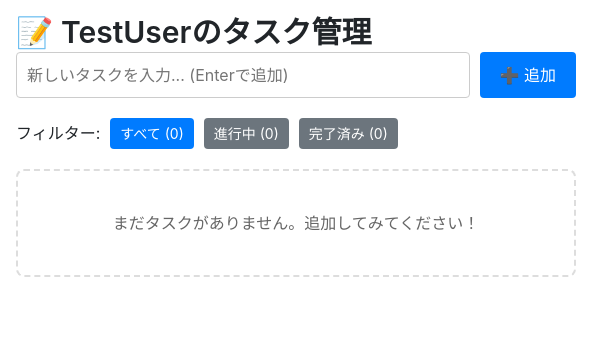
it: Task Deletion Integration Tests (US1) › 個別削除の受入シナリオ › AS-004: 削除ボタンでタスクが削除される
The width and height of the screenshot is (593, 353).
# 2つのタスクを追加
Step 1. Type "削除対象タスク" into the field with placeholder "新しいタスクを入力... (Enterで追加)" → [243, 74], box [16, 52, 470, 98]
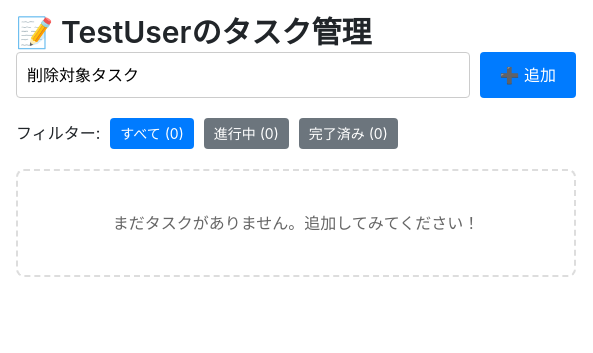
Step 2. Click the button "➕ 追加" → [528, 74], box [480, 52, 576, 98]
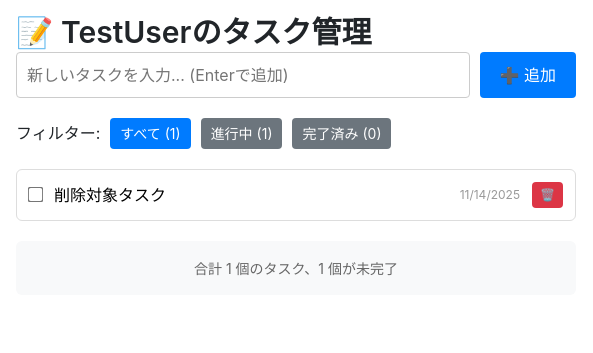
Step 3. Type "残すタスク" into the field with placeholder "新しいタスクを入力... (Enterで追加)" → [243, 74], box [16, 52, 470, 98]
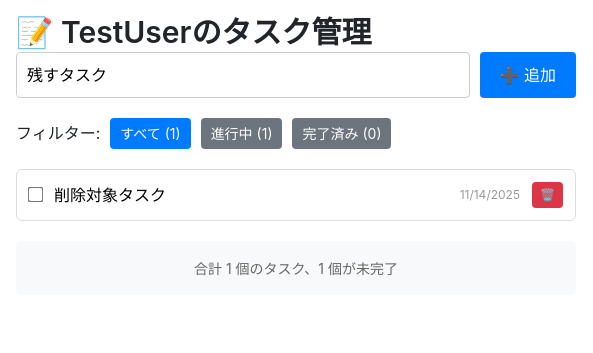
Step 4. Click the button "➕ 追加" → [528, 74], box [480, 52, 576, 98]
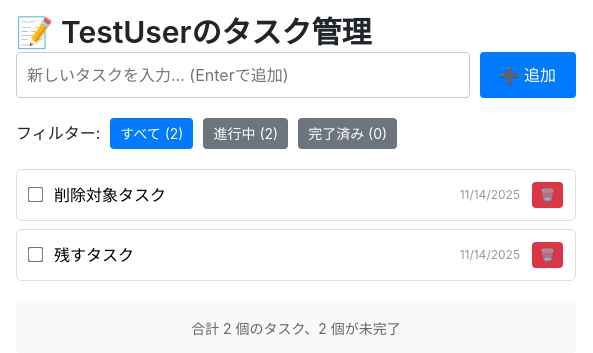
Expected: the text "削除対象タスク" is shown, [54, 184, 166, 204]
Expected: the text "残すタスク" is shown, [54, 244, 134, 264]
# 削除ボタン（🗑️）をクリック
Step 5. Click the button "🗑️" in the row of "削除対象タスク" → [548, 194], box [532, 182, 563, 208]
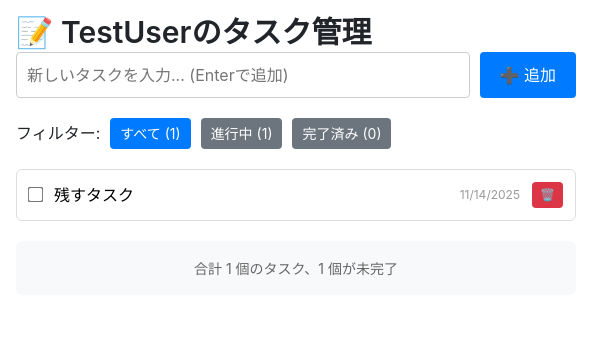
Expected: the text "残すタスク" is shown, [54, 184, 134, 204]
Expected: the text "削除対象タスク" is gone
